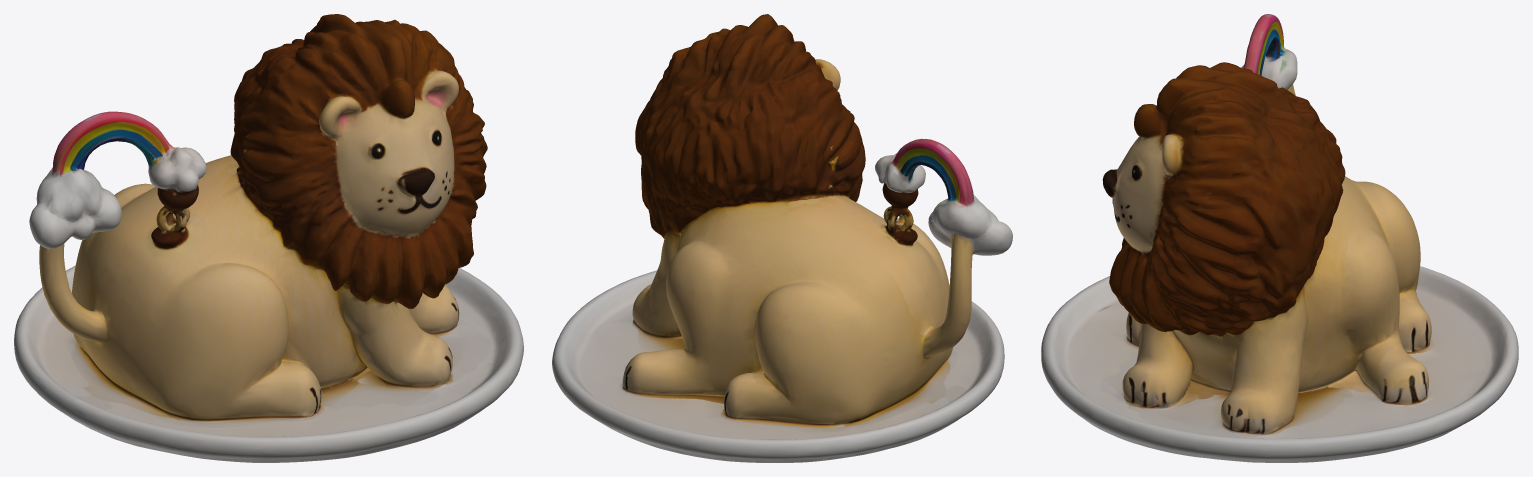
Rendered from romantex_18.glb.
The picture shows the model from 3 angles, left to right: view 1: azimuth 30°, elevation 25°; view 2: azimuth 150°, elevation 25°; view 3: azimuth 270°, elevation 25°; orthographic projection. The views are drawn at different scales.
Parts seen in each view (by area): view 1: texture_v130_hdr_21w_pbr_dino_11w.001; view 2: texture_v130_hdr_21w_pbr_dino_11w.001; view 3: texture_v130_hdr_21w_pbr_dino_11w.001.
Part boxes in pixels (x1=…): texture_v130_hdr_21w_pbr_dino_11w.001: x1=14, y1=14, x2=523, y2=462; texture_v130_hdr_21w_pbr_dino_11w.001: x1=552, y1=14, x2=1012, y2=462; texture_v130_hdr_21w_pbr_dino_11w.001: x1=1041, y1=14, x2=1518, y2=462.
Size of the model in its own units: 2 by 1.43 by 1.9.
Materials: 1 (1 with a texture image).
